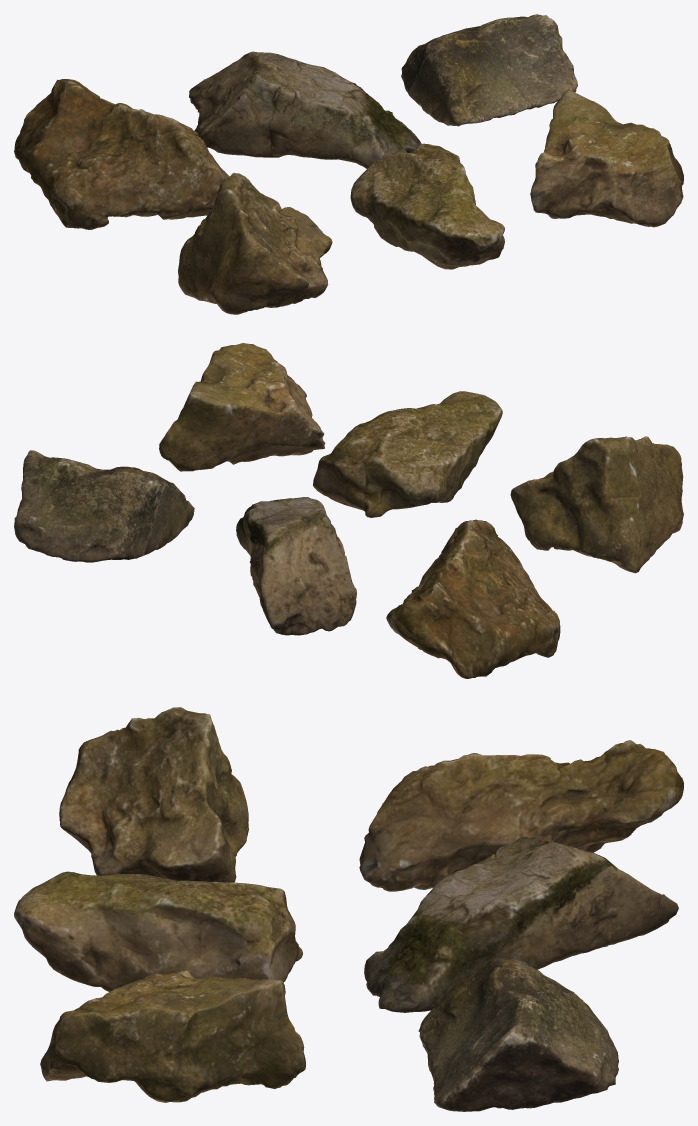
Rendered from rock_moss_set_01.glb.
3 renders of one model, top to bottom at view 1: azimuth 30°, elevation 25°; view 2: azimuth 150°, elevation 25°; view 3: azimuth 270°, elevation 25°, orthographic. The views are drawn at different scales.
Visible parts, largest first — view 1: rock_moss_set_01_rock01, rock_moss_set_01_rock02, rock_moss_set_01_rock06, rock_moss_set_01_rock04, rock_moss_set_01_rock03, rock_moss_set_01_rock05; view 2: rock_moss_set_01_rock04, rock_moss_set_01_rock01, rock_moss_set_01_rock05, rock_moss_set_01_rock03, rock_moss_set_01_rock06, rock_moss_set_01_rock02; view 3: rock_moss_set_01_rock01, rock_moss_set_01_rock02, rock_moss_set_01_rock05, rock_moss_set_01_rock06, rock_moss_set_01_rock04, rock_moss_set_01_rock03.
Boxes of the visible parts, left/top/right/bottom form: rock_moss_set_01_rock01: left=14, top=79, right=229, bottom=229; rock_moss_set_01_rock02: left=189, top=51, right=421, bottom=168; rock_moss_set_01_rock06: left=530, top=89, right=683, bottom=227; rock_moss_set_01_rock04: left=178, top=173, right=332, bottom=314; rock_moss_set_01_rock03: left=401, top=14, right=577, bottom=126; rock_moss_set_01_rock05: left=350, top=143, right=504, bottom=269; rock_moss_set_01_rock04: left=510, top=436, right=683, bottom=573; rock_moss_set_01_rock01: left=386, top=519, right=560, bottom=678; rock_moss_set_01_rock05: left=313, top=391, right=502, bottom=517; rock_moss_set_01_rock03: left=14, top=450, right=194, bottom=562; rock_moss_set_01_rock06: left=159, top=343, right=325, bottom=471; rock_moss_set_01_rock02: left=236, top=497, right=356, bottom=635; rock_moss_set_01_rock01: left=359, top=740, right=683, bottom=891; rock_moss_set_01_rock02: left=364, top=836, right=678, bottom=1012; rock_moss_set_01_rock05: left=14, top=871, right=302, bottom=991; rock_moss_set_01_rock06: left=40, top=970, right=305, bottom=1102; rock_moss_set_01_rock04: left=59, top=707, right=248, bottom=882; rock_moss_set_01_rock03: left=418, top=956, right=618, bottom=1111.
Bounding box in the file's own units: 8 × 1.77 × 6.94.
1 material, 1 textured.
